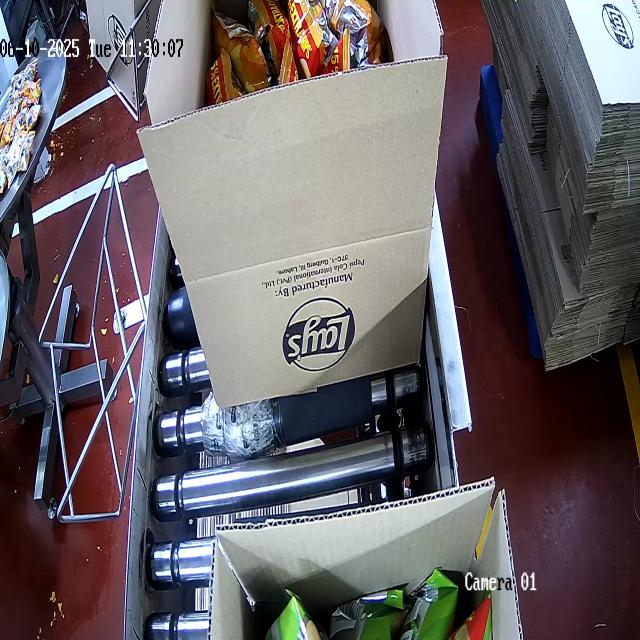FRENCH_CHEESE: (211, 0, 396, 104)
